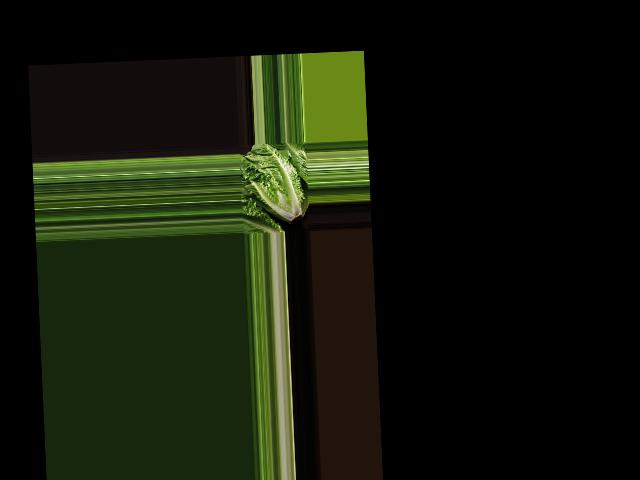lettuce: (243, 142, 310, 229)
